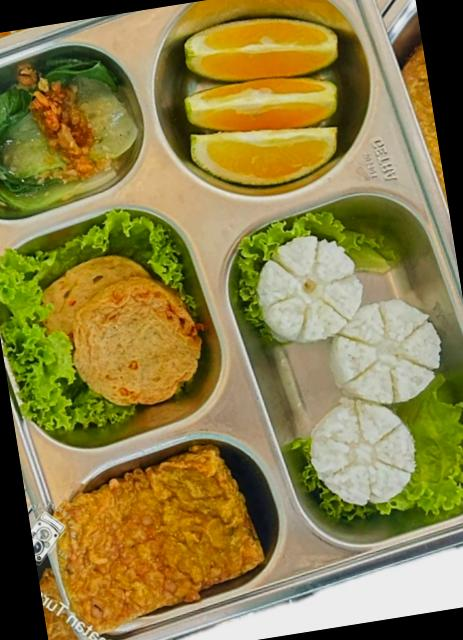ayam: (43, 256, 201, 406), (273, 149, 450, 244)
buah: (183, 18, 338, 187)
nasi: (256, 236, 440, 506)
sayur: (278, 369, 462, 527)
tempe: (59, 445, 263, 632)
